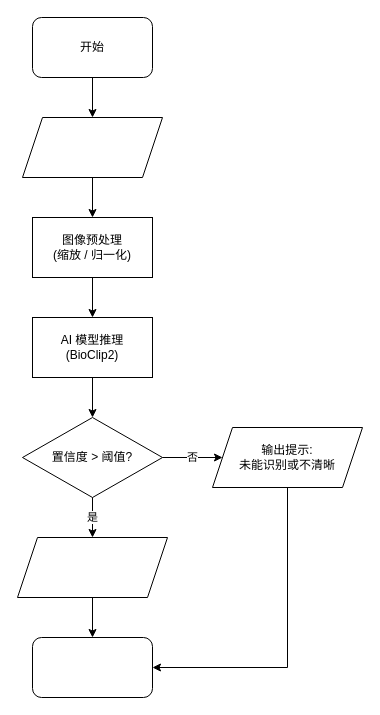
This 380x715 diagram has some shape labels left out. Each missing label, with the box of its shape:
结束: (32, 636, 152, 698)
输入蛇类图像: (22, 116, 162, 178)
输出识别结果 (物种与置信度): (16, 536, 168, 598)
